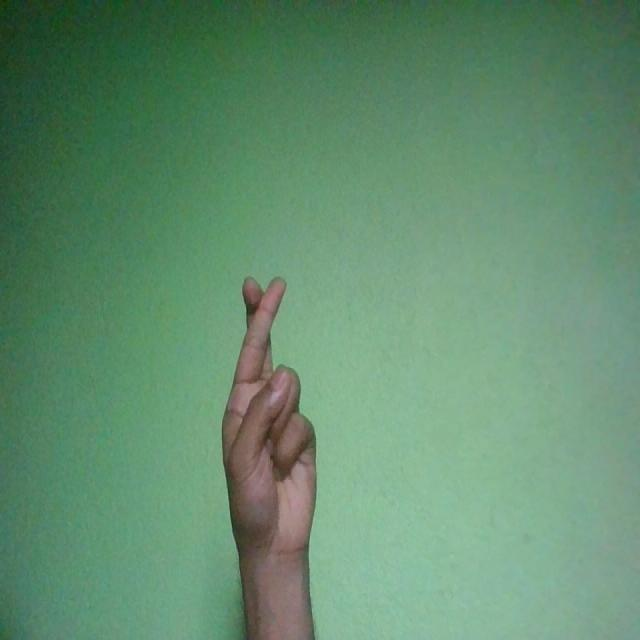Ok: (222, 277, 318, 567)
